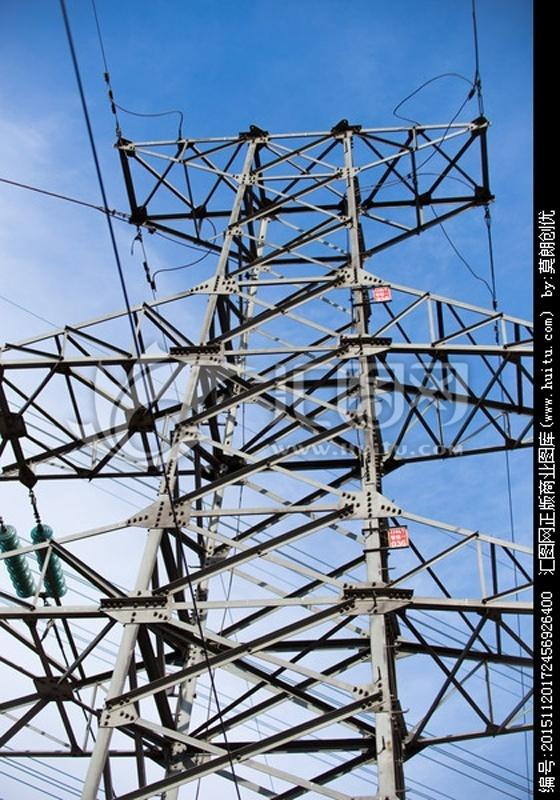power_tower: (3, 110, 544, 735)
